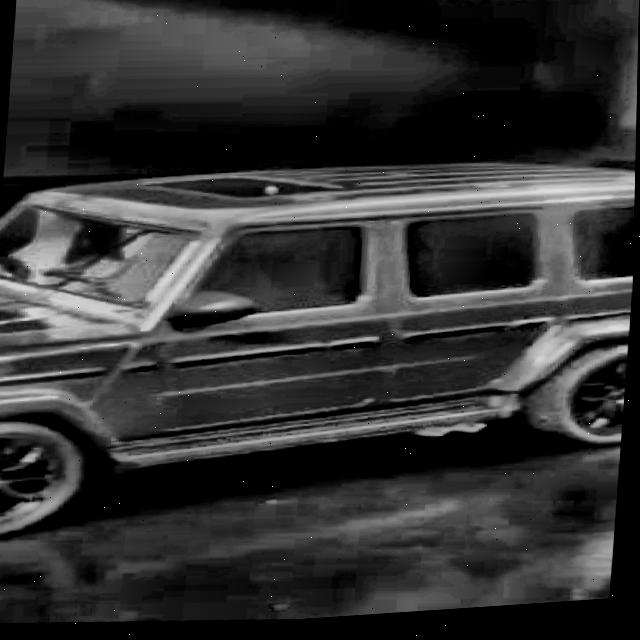light_vehicle: (0, 135, 637, 561)
